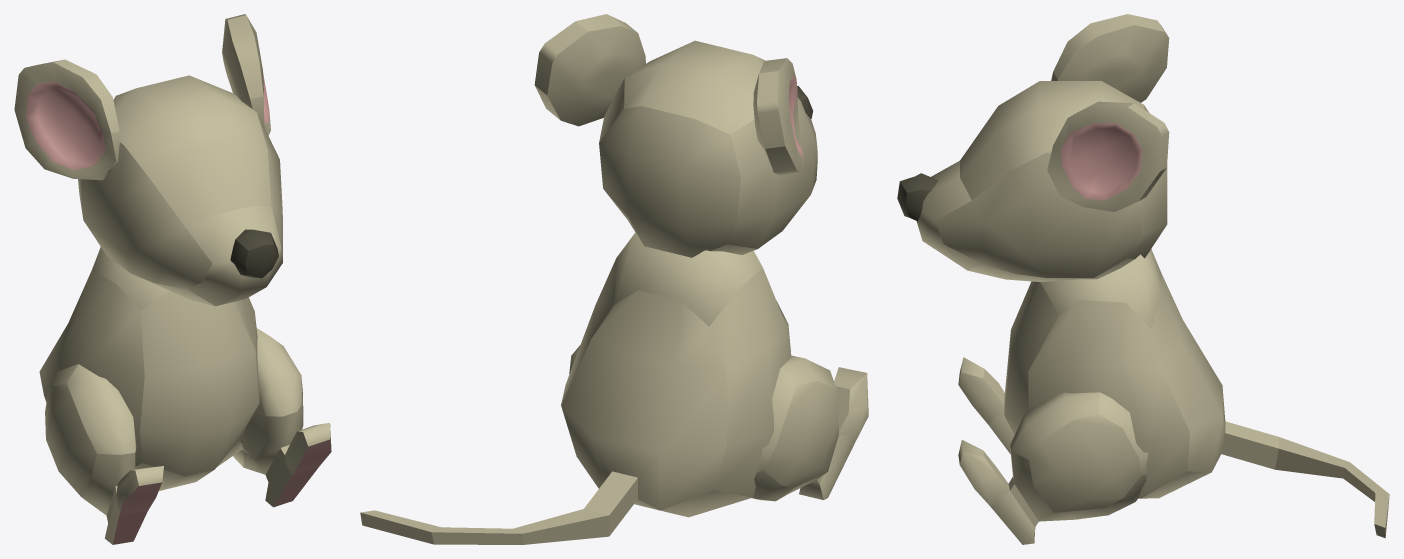
The model's file is rat.fbx.
3 renders of one model, left to right at view 1: azimuth 30°, elevation 25°; view 2: azimuth 150°, elevation 25°; view 3: azimuth 270°, elevation 25°, orthographic. The views are drawn at different scales.
Visible parts, largest first — view 1: pCube6; view 2: pCube6; view 3: pCube6.
Part boxes in pixels (<box>): pCube6: <box>14,14,331,544</box>; pCube6: <box>360,14,868,544</box>; pCube6: <box>897,14,1389,544</box>.
Bounding box in the file's own units: 6.79 × 10 × 10.1.
